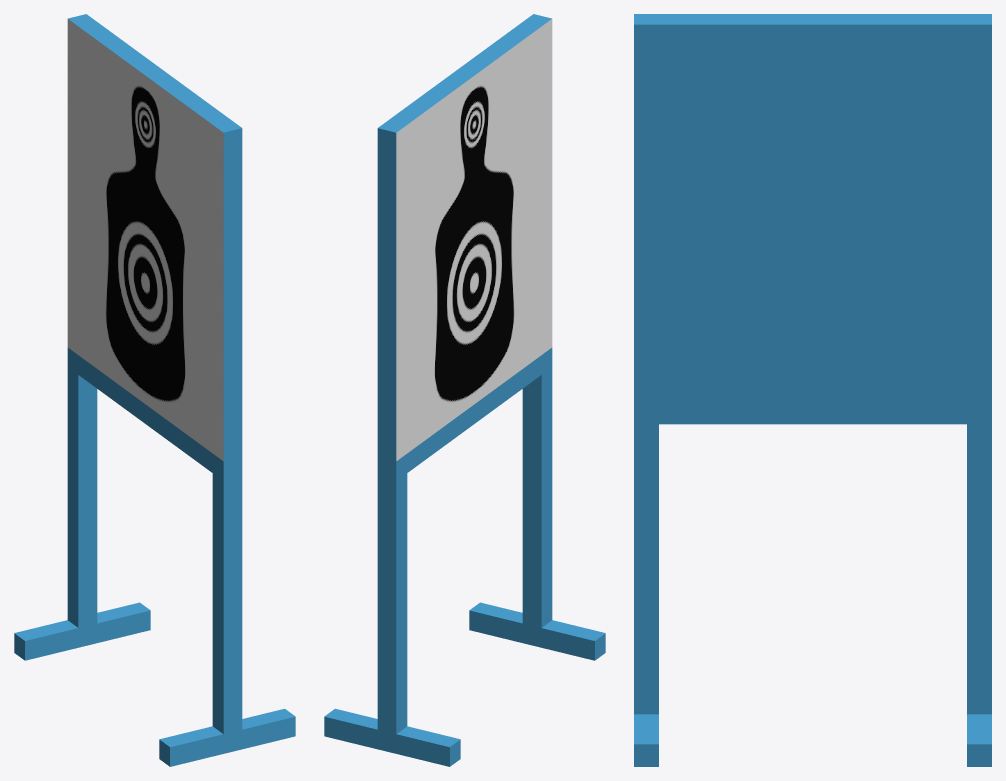
Rendered from AimTarget.fbx.
The picture shows the model from 3 angles, left to right: view 1: azimuth 30°, elevation 25°; view 2: azimuth 150°, elevation 25°; view 3: azimuth 270°, elevation 25°; orthographic projection. The views are drawn at different scales.
Parts seen in each view (by area): view 1: AimTarget; view 2: AimTarget; view 3: AimTarget.
Boxes of the visible parts, x1=… form: AimTarget: x1=14, y1=14, x2=295, y2=766; AimTarget: x1=324, y1=14, x2=605, y2=766; AimTarget: x1=634, y1=14, x2=991, y2=766.
Bounding box in the file's own units: 100 × 473 × 215.
